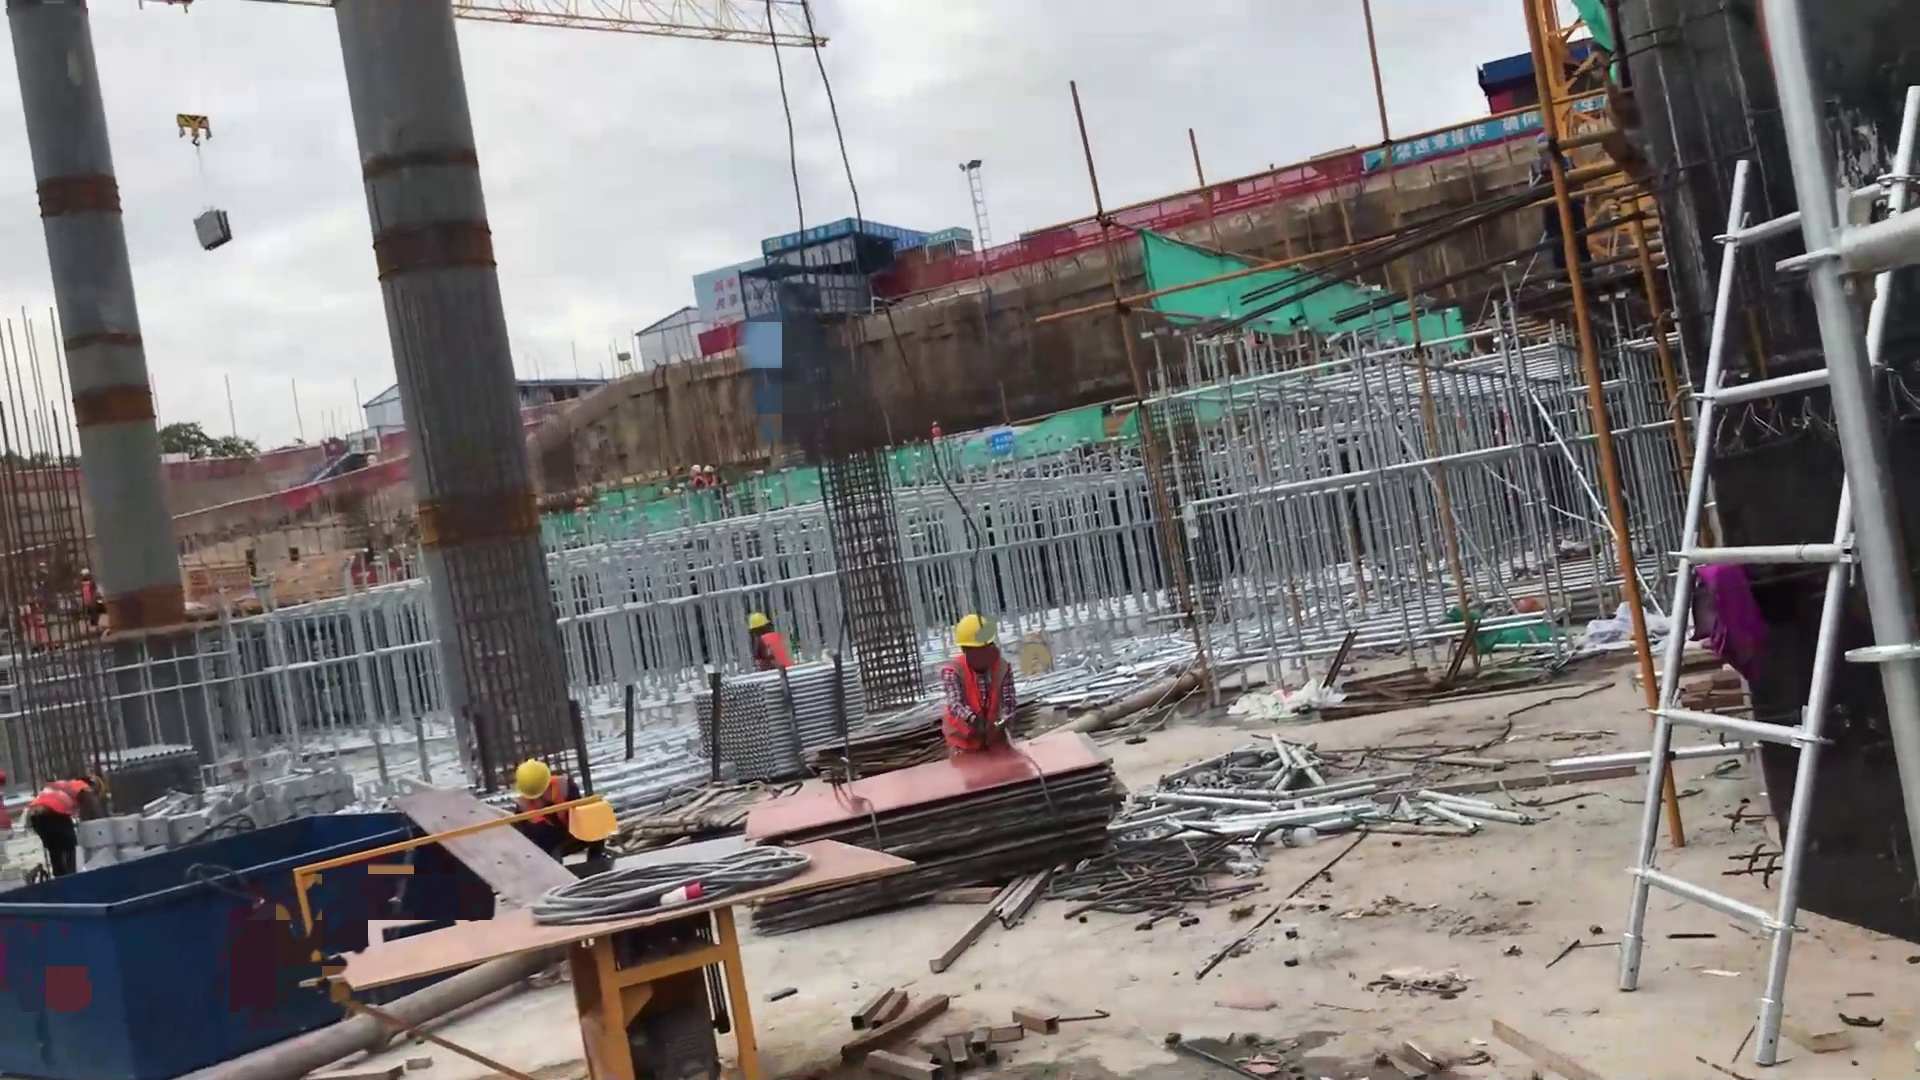board: (737, 735, 1117, 929)
cutter: (292, 792, 782, 1080)
helmet: (951, 611, 997, 651), (515, 760, 550, 799), (746, 612, 771, 629), (78, 564, 91, 576), (691, 463, 704, 474), (703, 463, 715, 474)
hook: (176, 110, 213, 151)
hopper: (1, 804, 452, 1080)
person: (935, 610, 1018, 756), (505, 759, 602, 865), (26, 769, 109, 877), (743, 611, 794, 672), (76, 563, 105, 631), (684, 461, 709, 489), (703, 464, 719, 487)
scaffold: (693, 661, 872, 786), (97, 742, 208, 824)
slogan: (1378, 108, 1537, 169), (763, 220, 976, 245), (984, 427, 1017, 455)
vest: (939, 654, 1011, 752), (507, 772, 571, 831), (28, 776, 91, 818), (758, 629, 789, 671), (77, 578, 97, 609), (690, 476, 709, 488), (931, 426, 943, 439)
